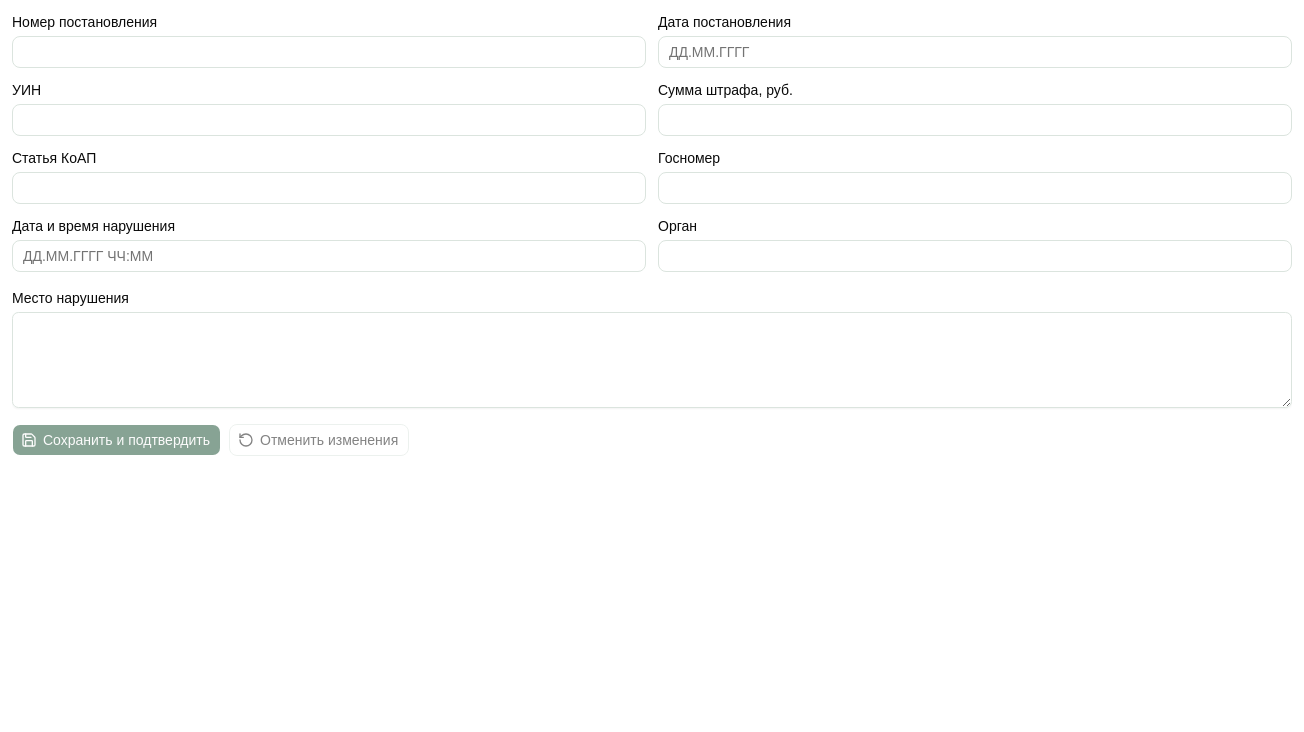
Scenario: FineNoticeForm › rejects a fractional fine amount before sending it
This screenshot has width=1304, height=732.
In the number field labelled "Сумма штрафа, руб.": x=975, y=120 [658, 104, 1292, 136], type "12.5"
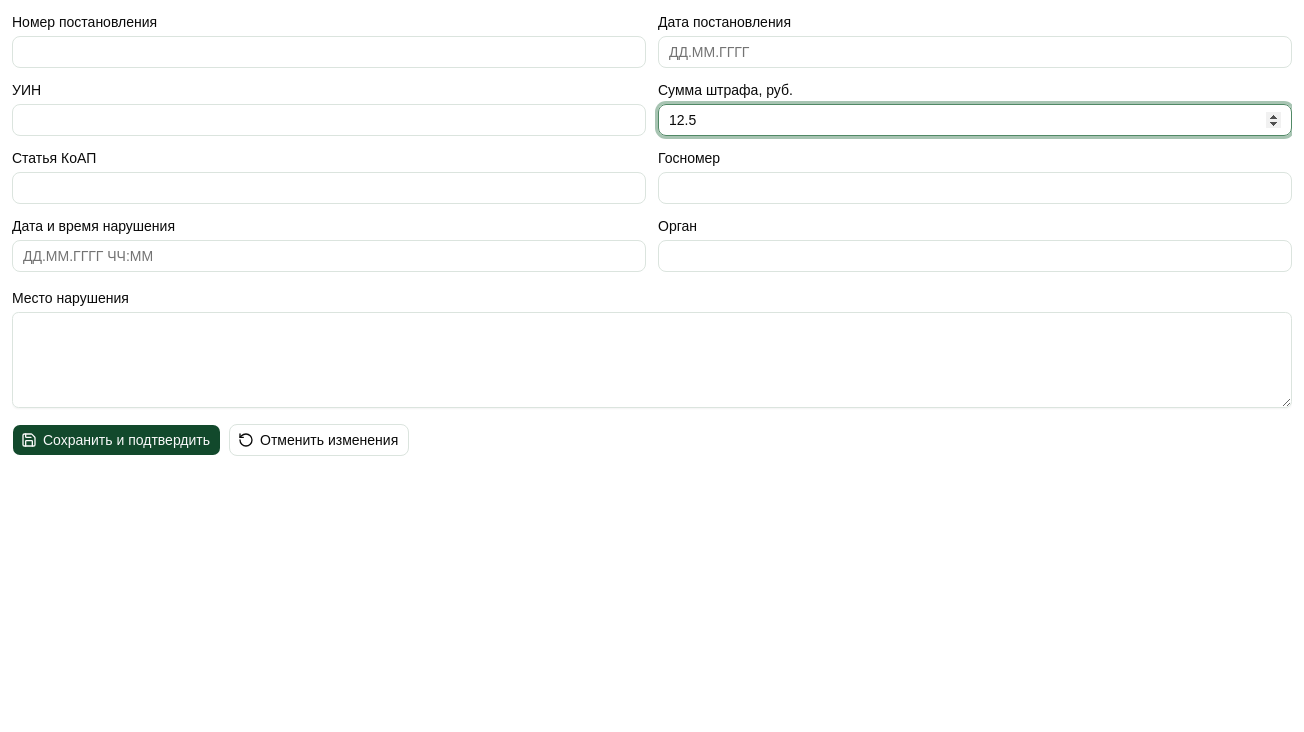
Click the button "Сохранить и подтвердить": x=116, y=440 [12, 424, 221, 456]
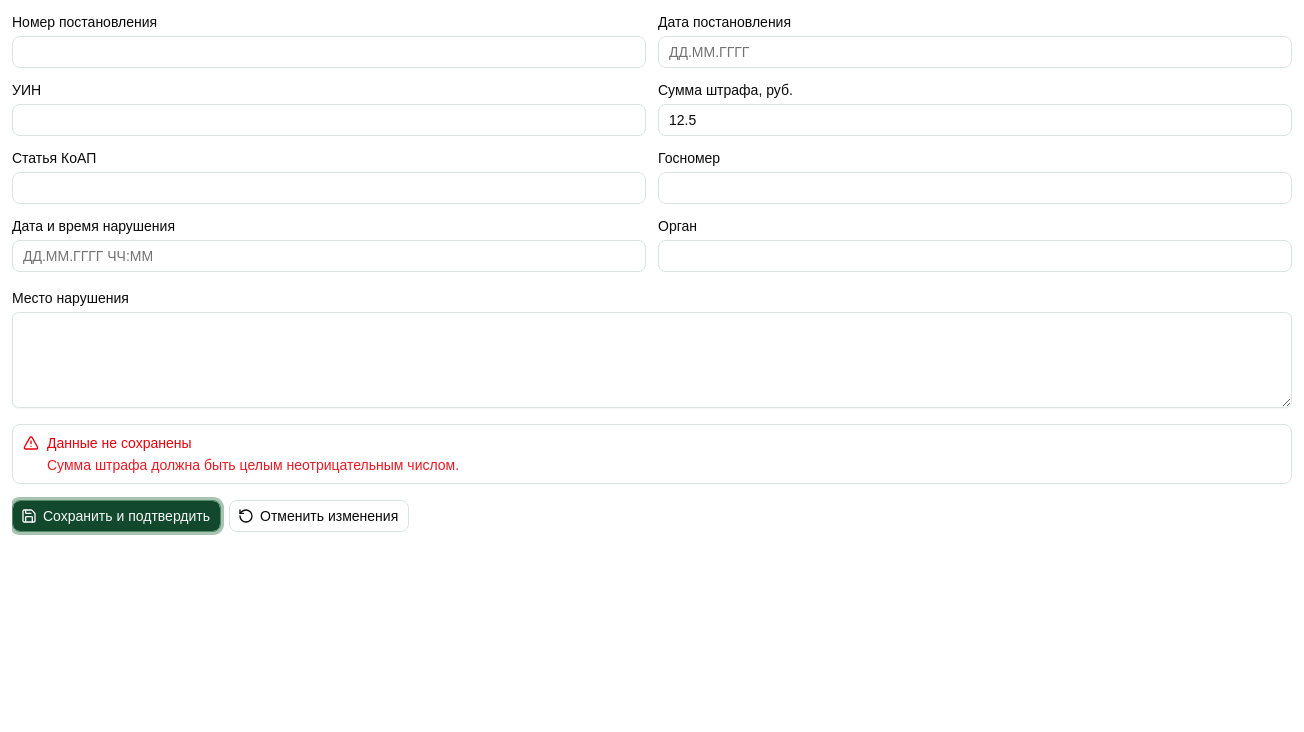
Check: the text "Сумма штрафа должна быть целым неотрицательным числом." is shown, box [47, 457, 459, 473]
